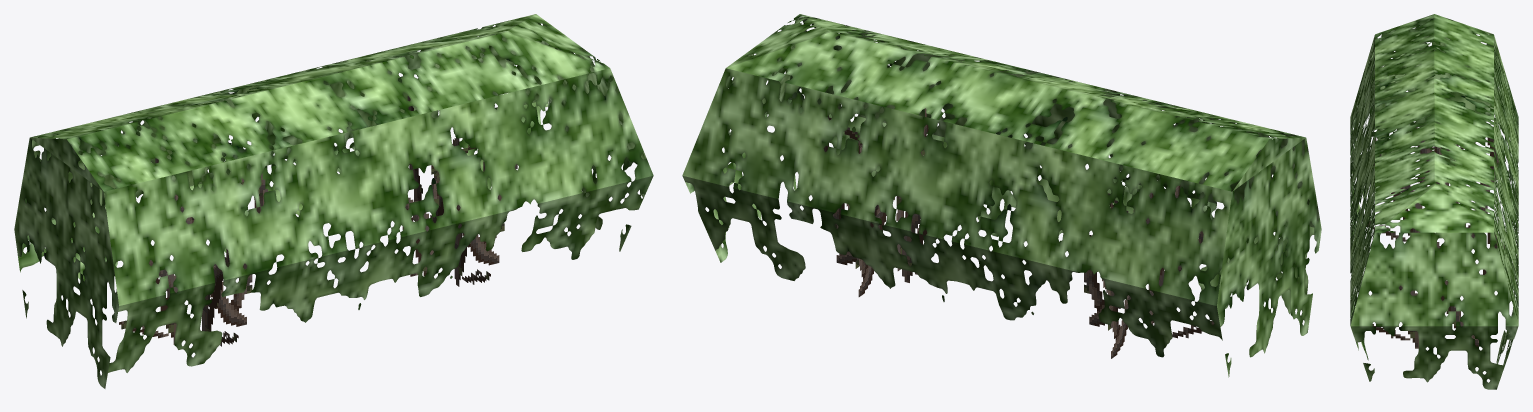
Rendered from bush_long_open_right_roots_summer.fbx.
3 views of the same model, side by side, from view 1: azimuth 30°, elevation 25°; view 2: azimuth 150°, elevation 25°; view 3: azimuth 270°, elevation 25° (orthographic). The views are drawn at different scales.
Visible parts, largest first — view 1: bush_long_open_right_roots_summer; view 2: bush_long_open_right_roots_summer; view 3: bush_long_open_right_roots_summer.
Boxes of the visible parts, left/top/right/bottom form: bush_long_open_right_roots_summer: left=14, top=14, right=653, bottom=388; bush_long_open_right_roots_summer: left=682, top=14, right=1321, bottom=377; bush_long_open_right_roots_summer: left=1350, top=14, right=1518, bottom=389.
Size of the model in its own units: 212 by 87.65 by 71.91.
Materials: 2 (2 with a texture image).
